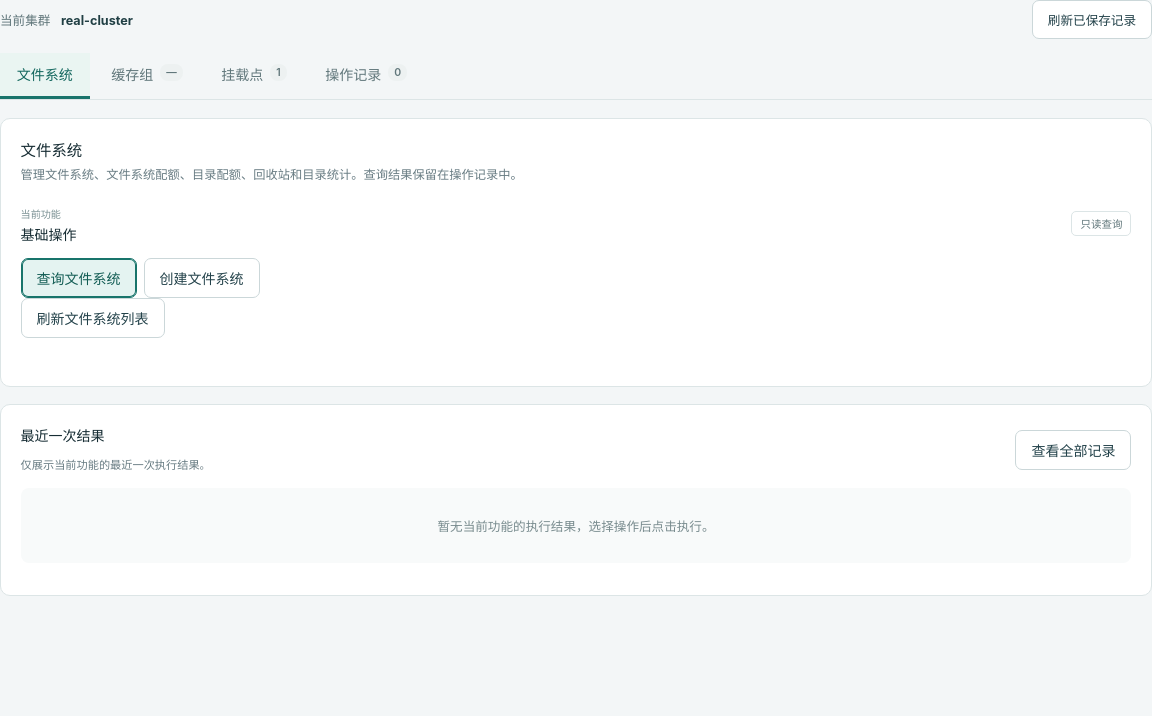
Test: sudo challenge authenticates against the resource operation and clears its password
The width and height of the screenshot is (1152, 716).
Click the button "文件系统" at (45,76), box x1=0 y1=52 x2=90 y2=99
(page scrolled)
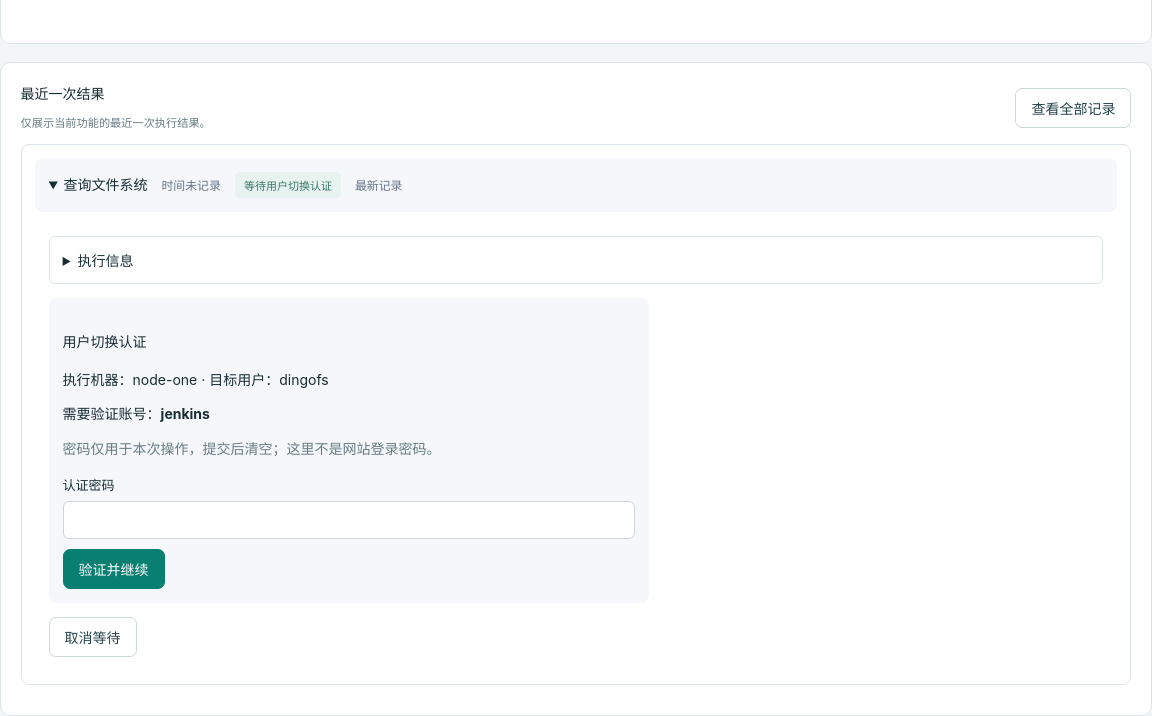
Now the text "jenkins" is shown, box x1=161 y1=405 x2=210 y2=422
Type "one-time-secret" into the password field labelled "认证密码" at (349,520), box x1=63 y1=501 x2=635 y2=539
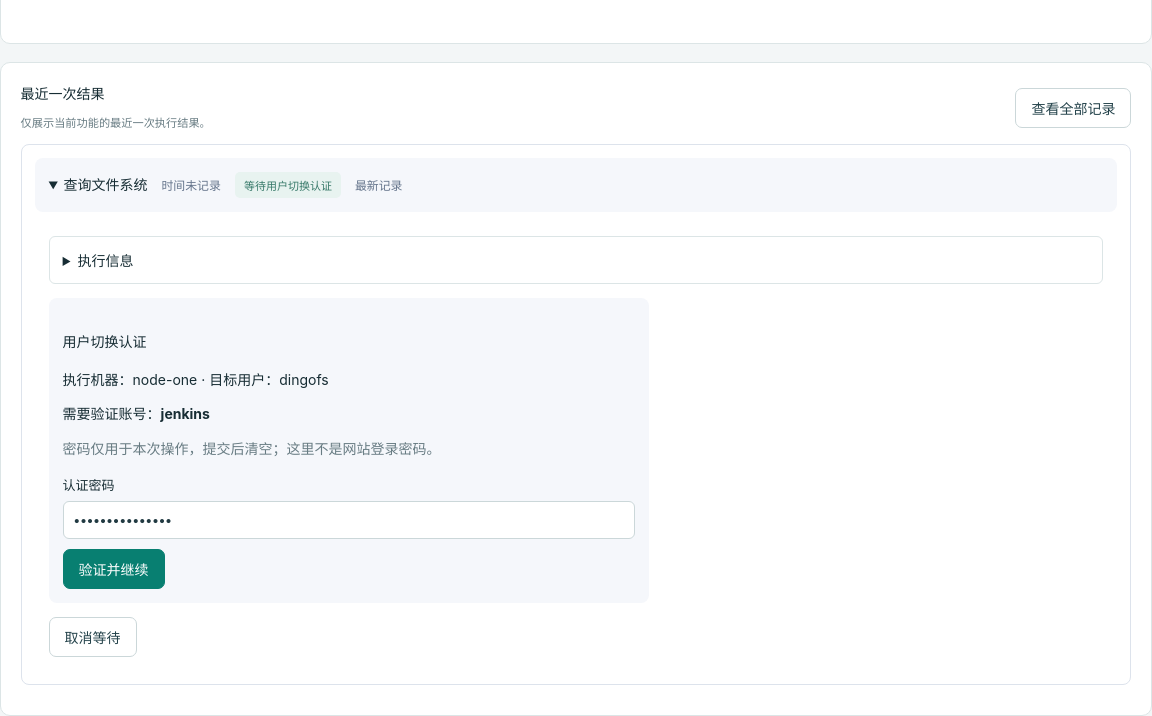
Click the button "验证并继续" at (114,570), box x1=63 y1=550 x2=165 y2=590
(page scrolled)
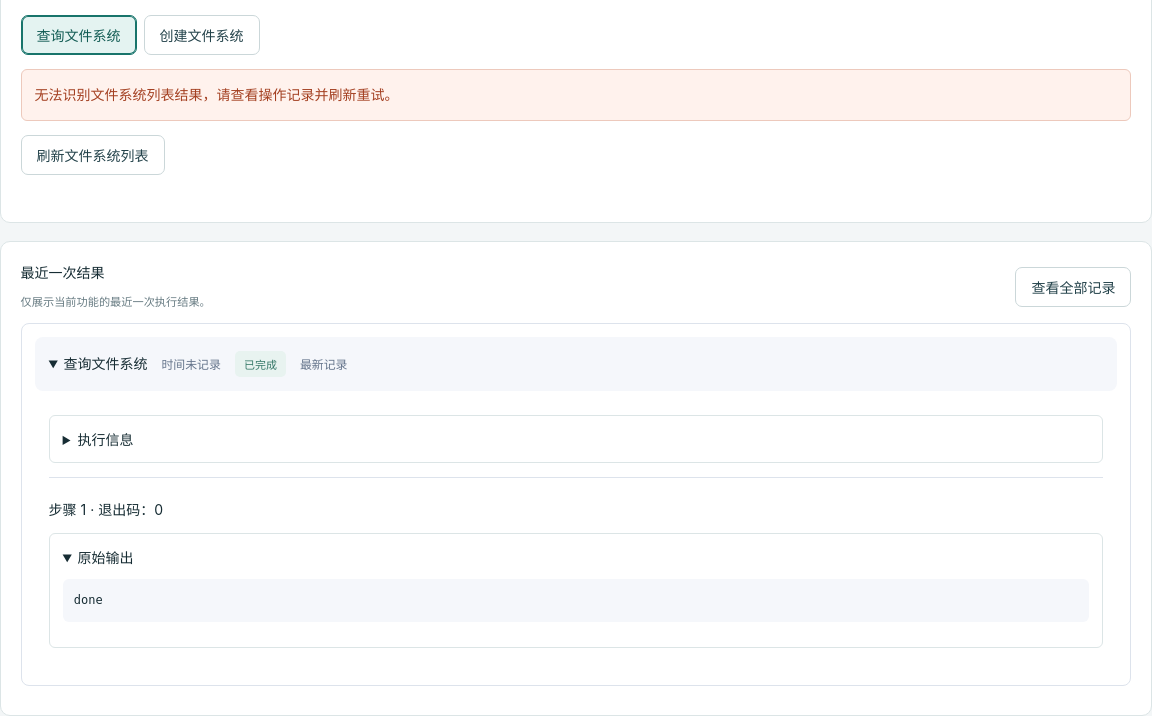
Now the label labelled "认证密码" is gone
